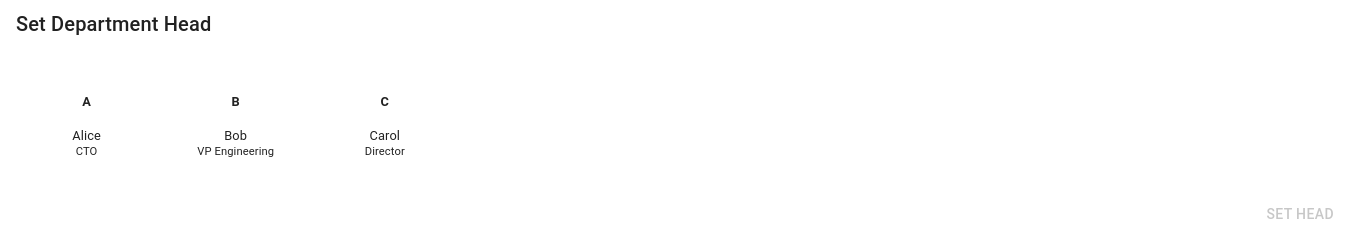
Scenario: UpdateDepartmentHead Component › submit button is enabled after selecting a person
The image size is (1366, 251).
Click the button "A Alice CTO" at point(87, 126), box [72,94,101,158]
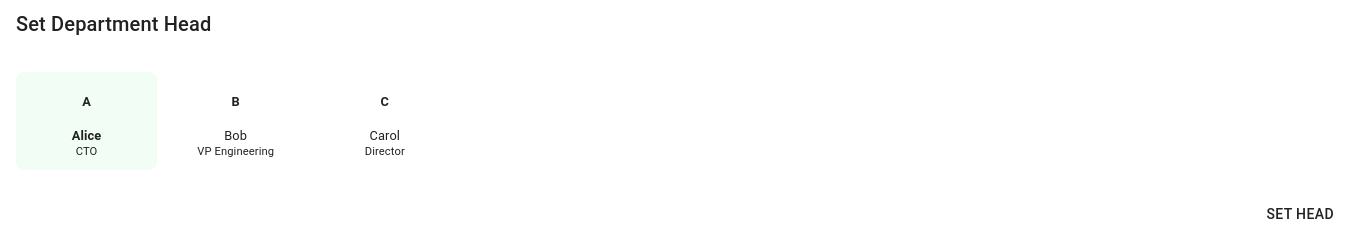
Check: the button "Set Head" is enabled, box [1250,194,1350,235]
